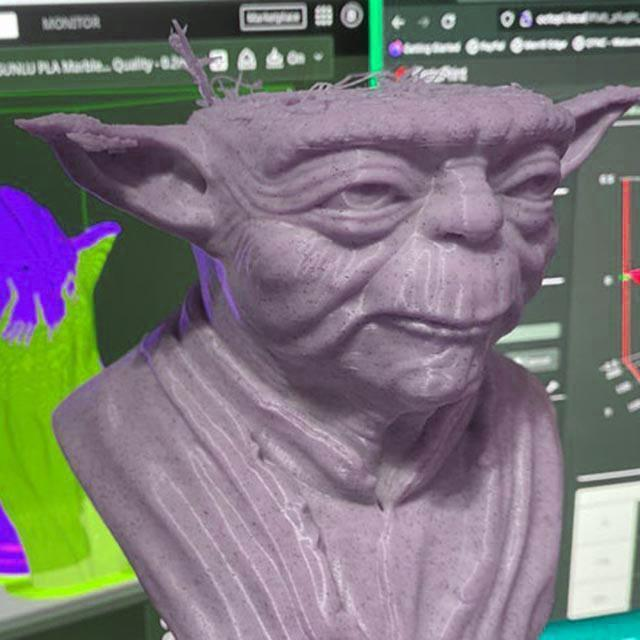spaghetti: (169, 18, 265, 106), (303, 68, 441, 106)
